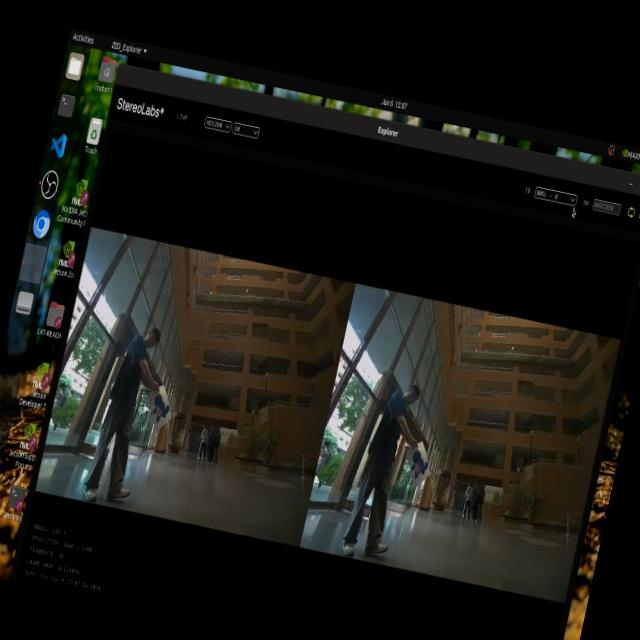blue: (402, 434, 438, 488), (142, 388, 174, 428)
